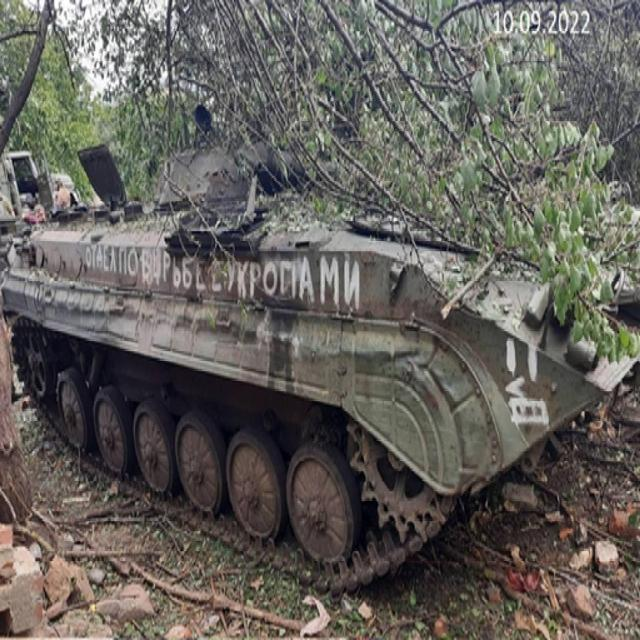APC-IFV: (0, 131, 638, 591)
